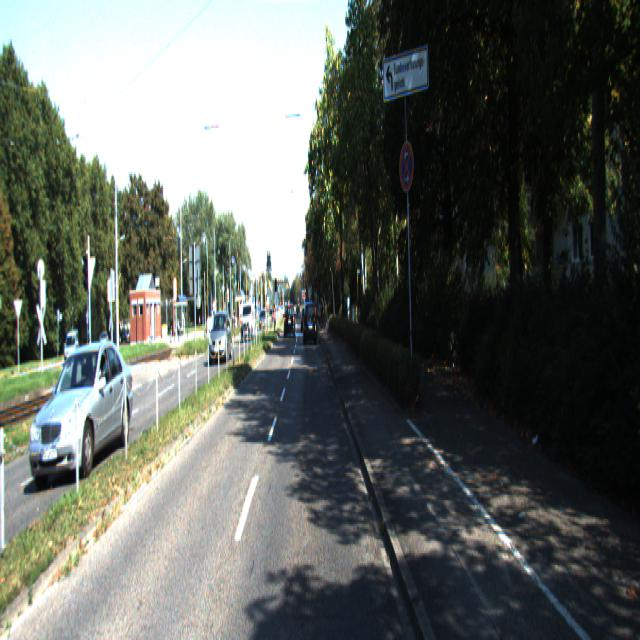Car: (32, 338, 134, 490), (209, 310, 232, 366), (304, 300, 318, 346), (284, 304, 296, 338)
